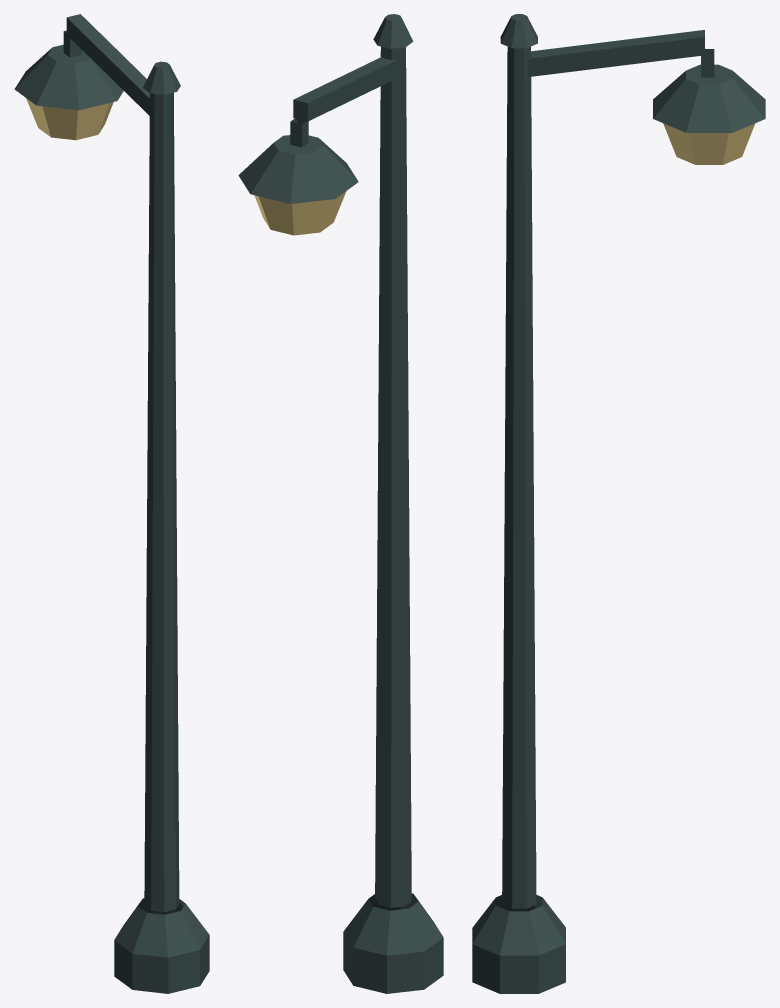
Rendered from Prop_StreetLamp.fbx.
3 renders of one model, left to right at view 1: azimuth 30°, elevation 25°; view 2: azimuth 150°, elevation 25°; view 3: azimuth 270°, elevation 25°, orthographic. The views are drawn at different scales.
Parts seen in each view (by area): view 1: Prop_StreetLamp; view 2: Prop_StreetLamp; view 3: Prop_StreetLamp.
Boxes of the visible parts, box(x1,y1,x2,y2) form: Prop_StreetLamp: box(14, 14, 209, 993); Prop_StreetLamp: box(238, 14, 443, 993); Prop_StreetLamp: box(472, 14, 765, 993).
Bounding box in the file's own units: 133 × 1250 × 347.
1 material, 1 textured.
